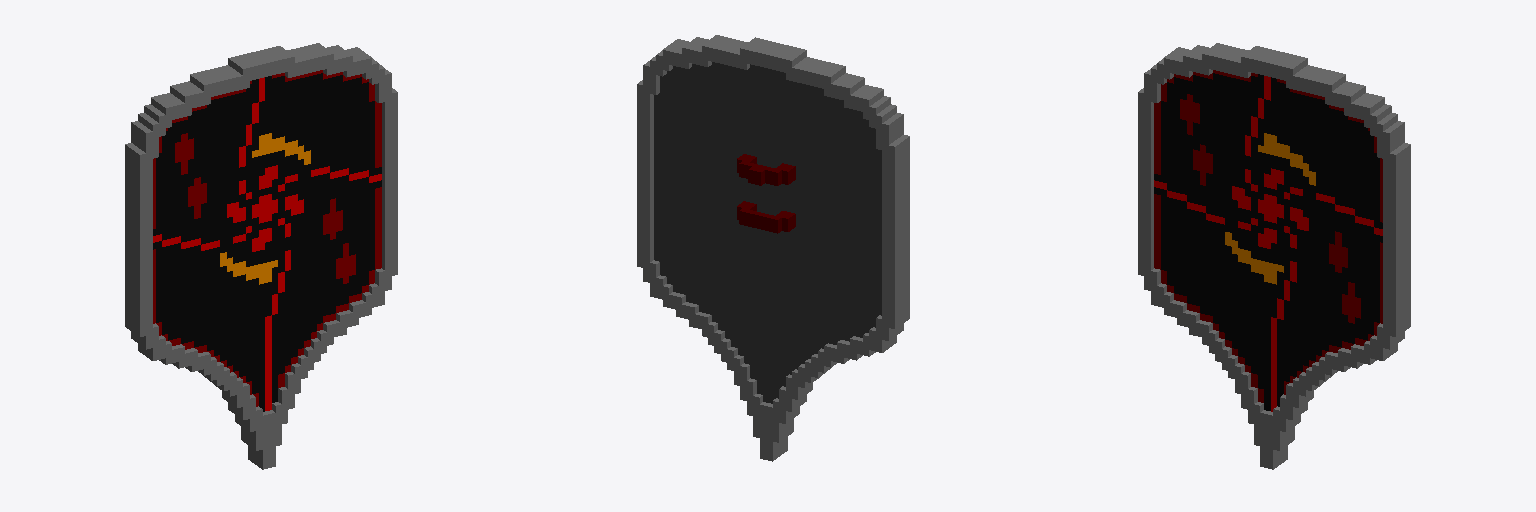
3 views of the same model, side by side, from view 1: azimuth 30°, elevation 25°; view 2: azimuth 150°, elevation 25°; view 3: azimuth 330°, elevation 25° (orthographic).
Parts seen in each view (by area): view 1: RedShield; view 2: RedShield; view 3: RedShield.
Boxes of the visible parts, x1=… form: RedShield: x1=125, y1=43, x2=397, y2=469; RedShield: x1=637, y1=35, x2=909, y2=461; RedShield: x1=1138, y1=43, x2=1410, y2=469.
Bounding box in the file's own units: 40 × 60 × 7.
Materials: 1 (1 with a texture image).